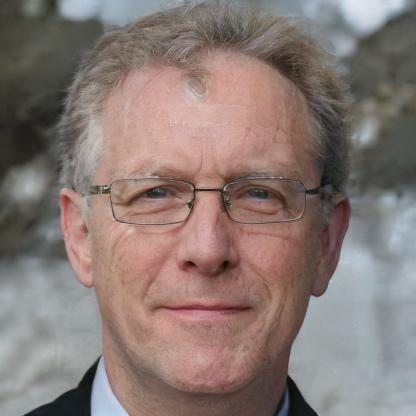glasses: (92, 169, 322, 231)
